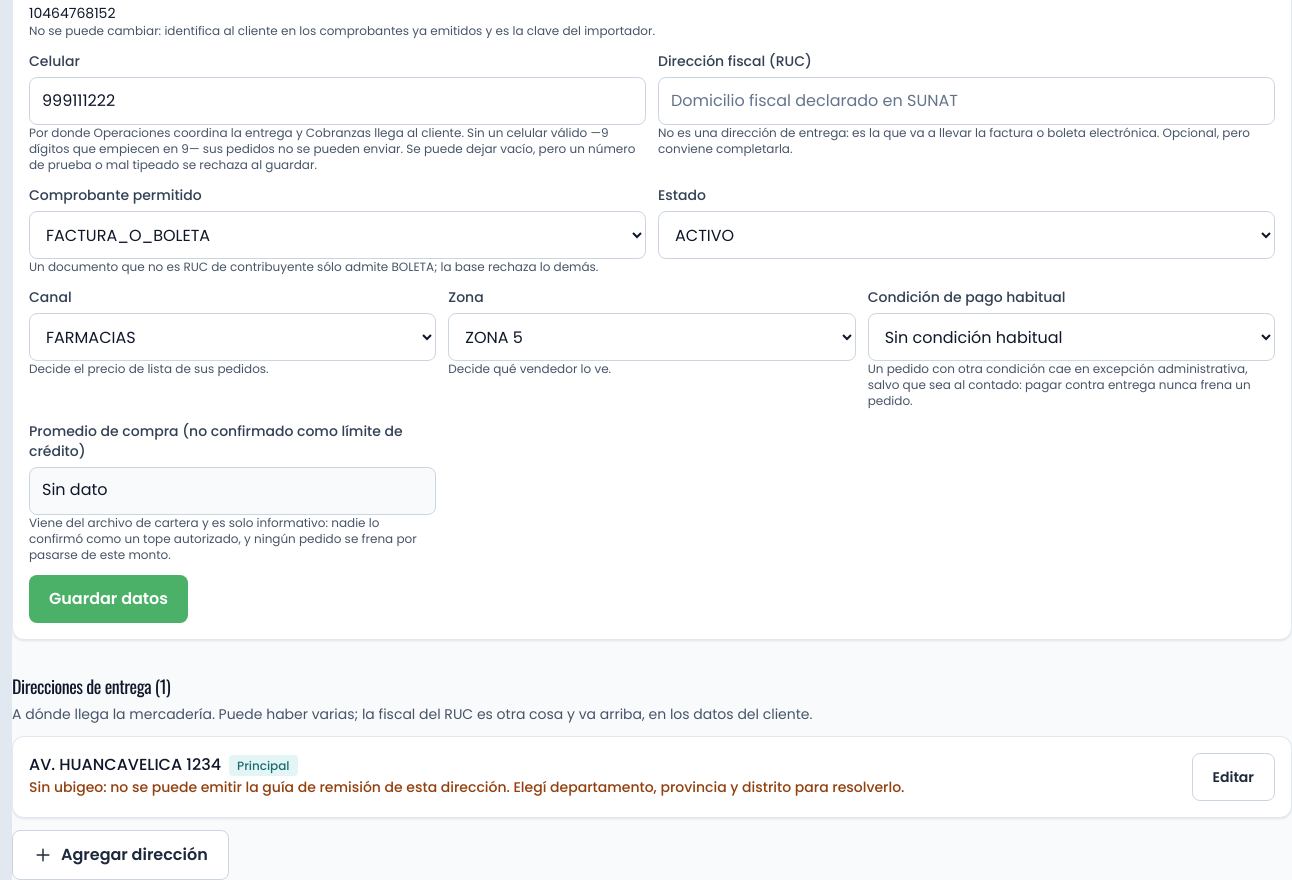
Test: CustomerDetailForm › no deja guardar la dirección hasta tener los tres niveles del ubigeo
(page scrolled)
Click the button "Editar" at (1233, 777), box 1192,753 -> 1275,801
(page scrolled)
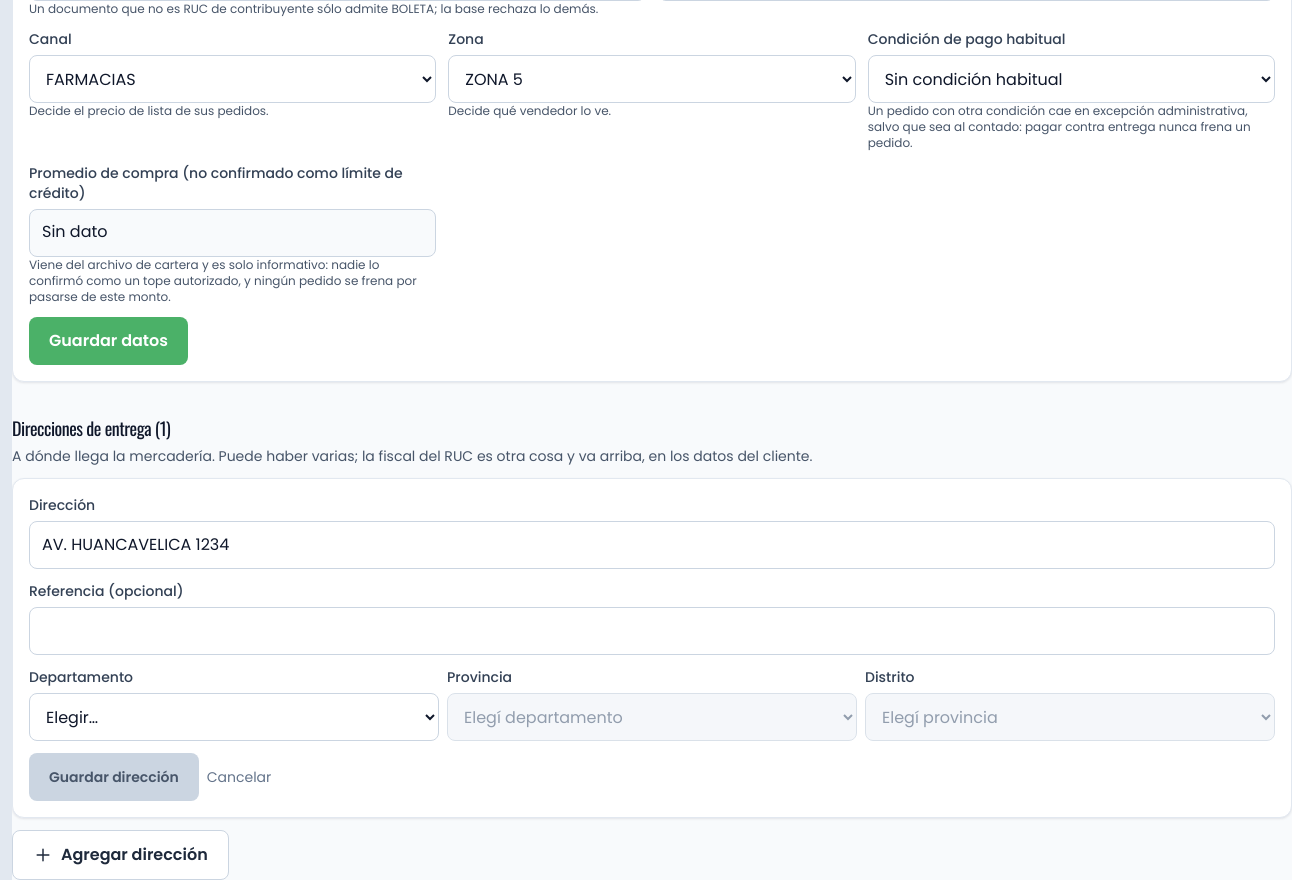
Check: the button "Guardar dirección" is disabled, box 29,753 -> 199,801
Select "JUNIN" in the dropdown labelled "Departamento" at (234, 717), box 29,693 -> 439,741
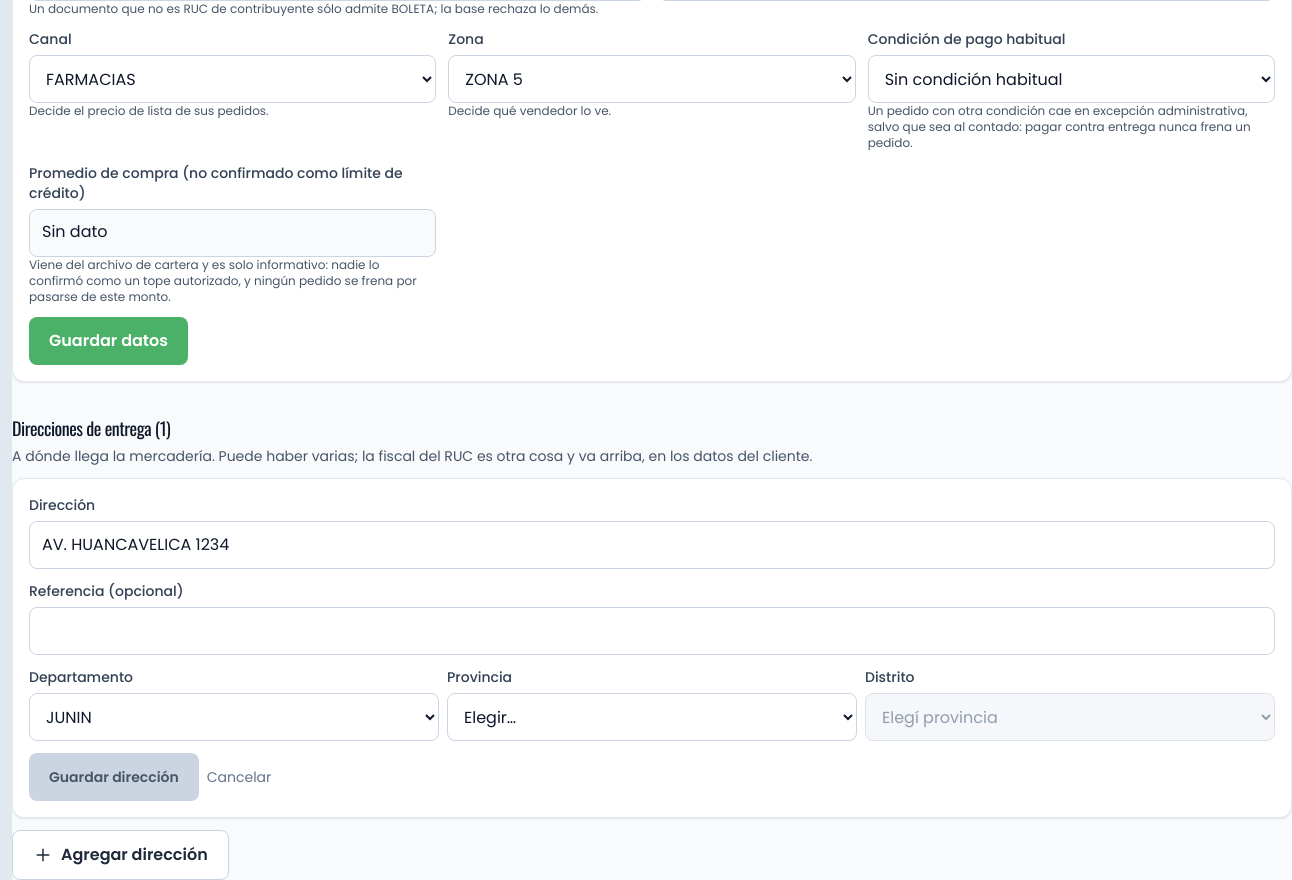
Check: the button "Guardar dirección" is disabled, box 29,753 -> 199,801
Select "HUANCAYO" in the dropdown labelled "Provincia" at (652, 717), box 447,693 -> 857,741
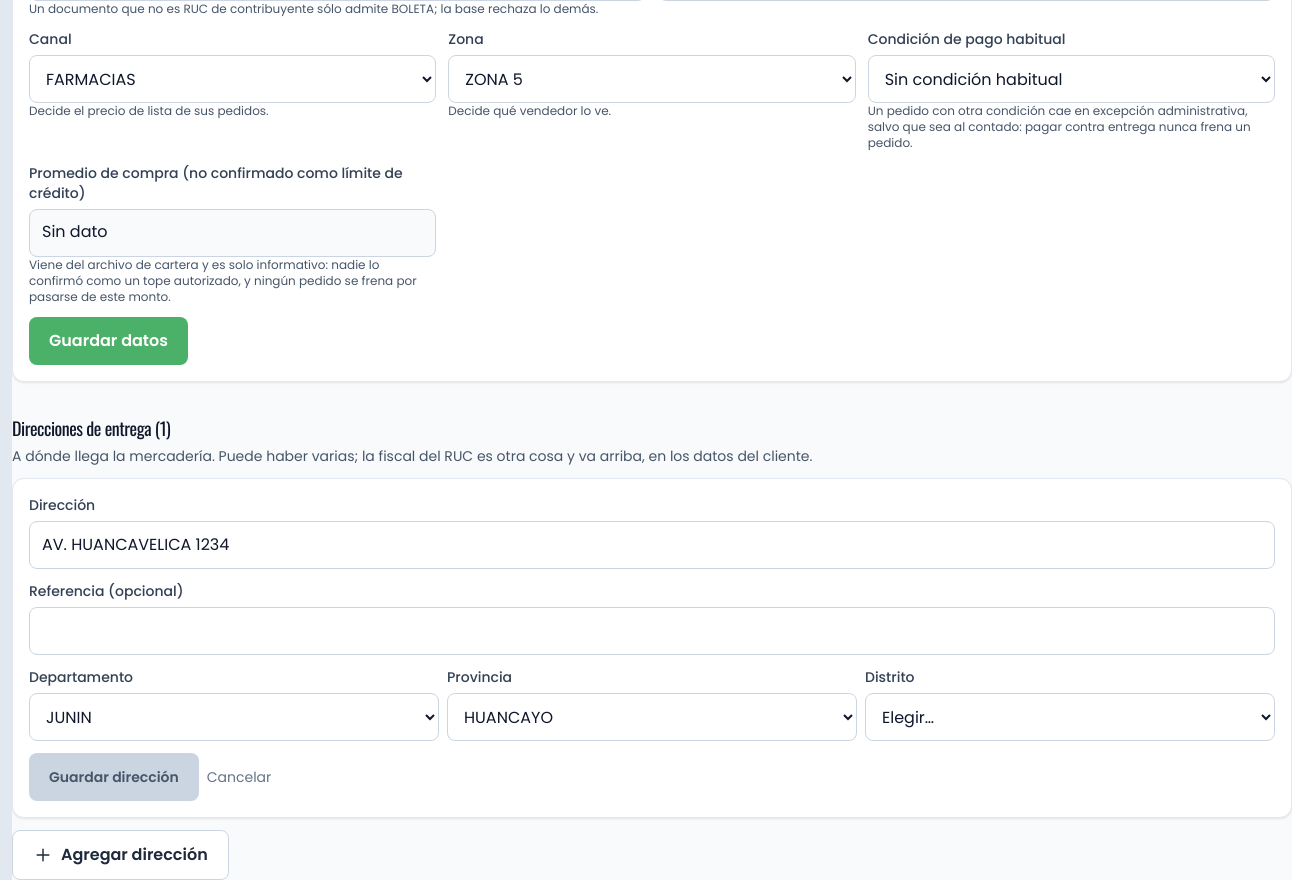
Select "EL TAMBO" in the dropdown labelled "Distrito" at (1070, 717), box 865,693 -> 1275,741
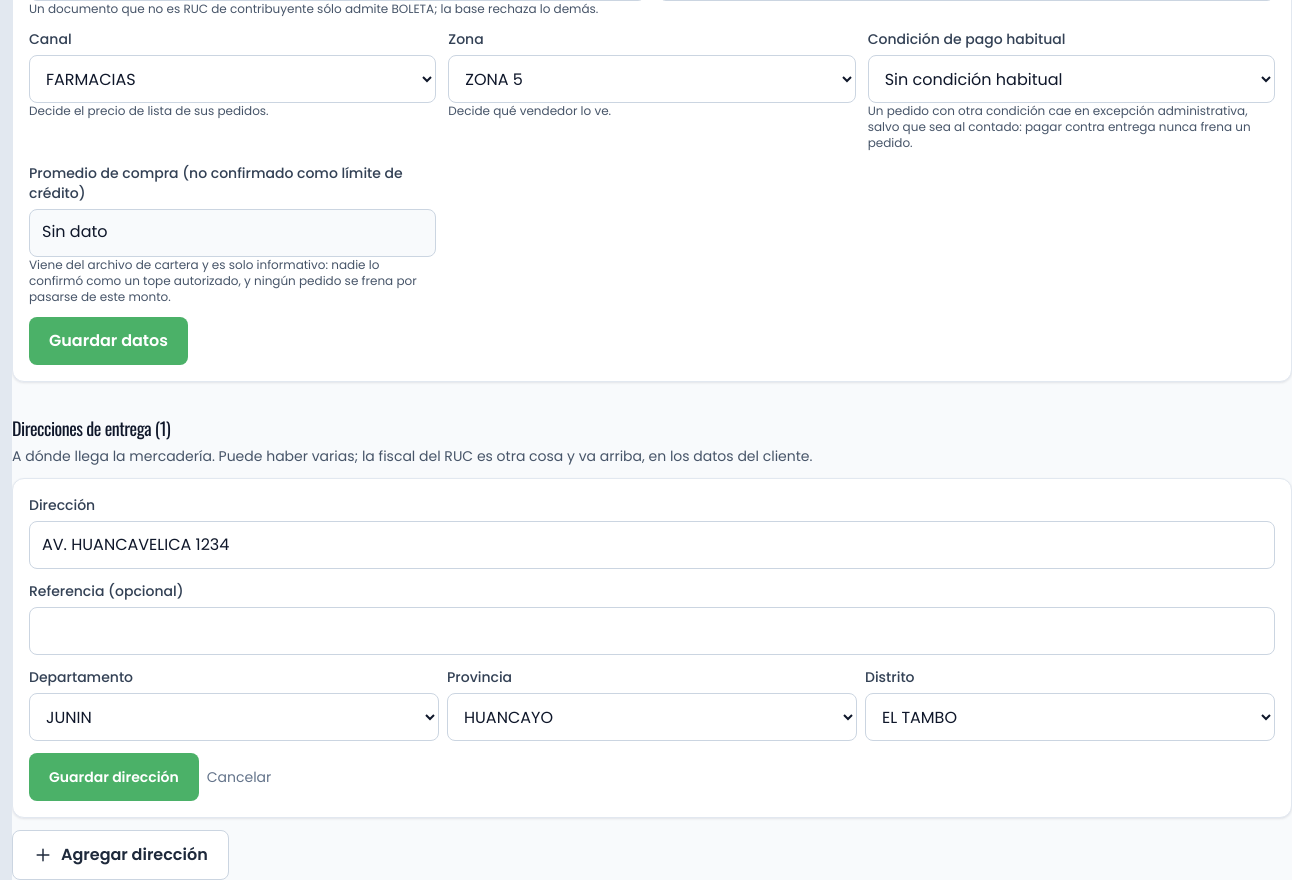
Check: the button "Guardar dirección" is enabled, box 29,753 -> 199,801
